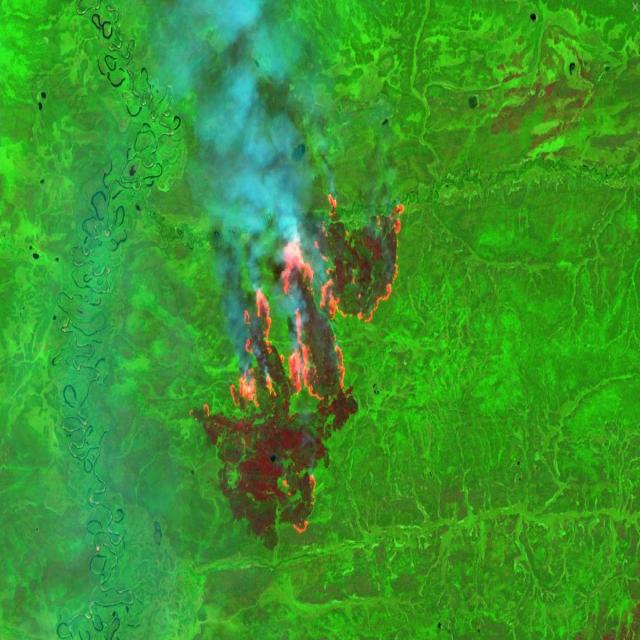fire: (226, 191, 407, 411), (278, 470, 320, 540), (186, 400, 214, 428)
